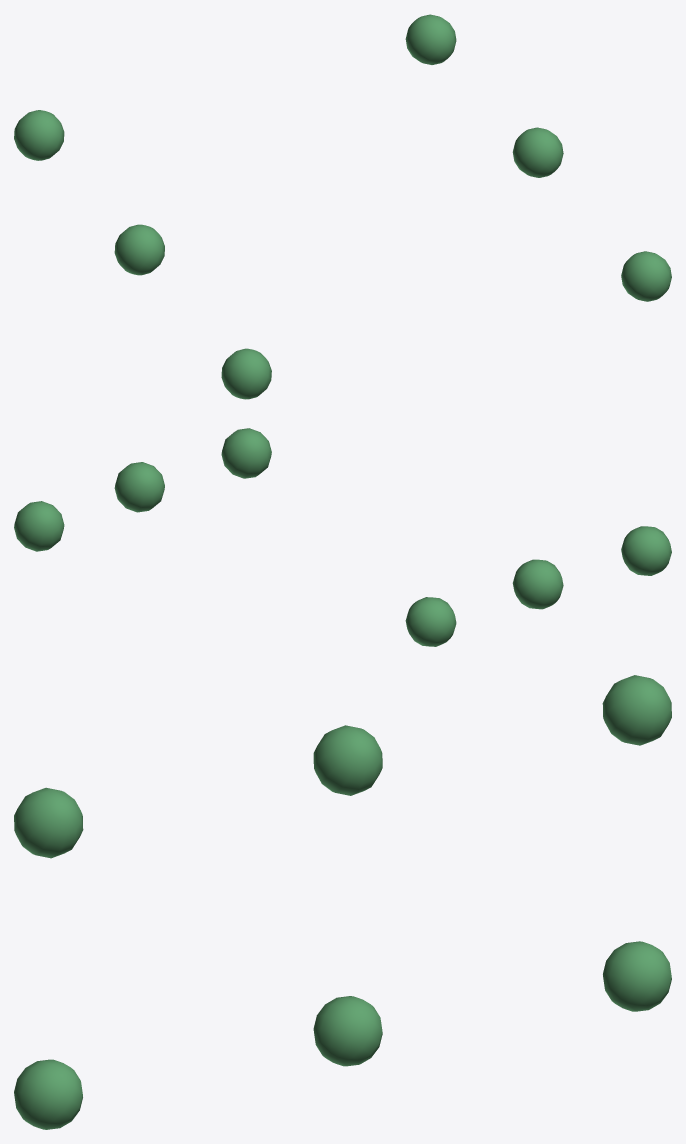
3 views of the same model, one above another, from view 1: azimuth 30°, elevation 25°; view 2: azimuth 150°, elevation 25°; view 3: azimuth 270°, elevation 25° (orthographic). The views are drawn at different scales.
Parts seen in each view (by area): view 1: 颈部气管旁淋巴结; view 2: 颈部气管旁淋巴结; view 3: 颈部气管旁淋巴结.
Boxes of the visible parts, <box> form: 颈部气管旁淋巴结: <box>14,14,671,399</box>; 颈部气管旁淋巴结: <box>14,428,671,646</box>; 颈部气管旁淋巴结: <box>14,675,671,1129</box>.
Size of the model in its own units: 0.0385 by 0.0107 by 0.0355.
